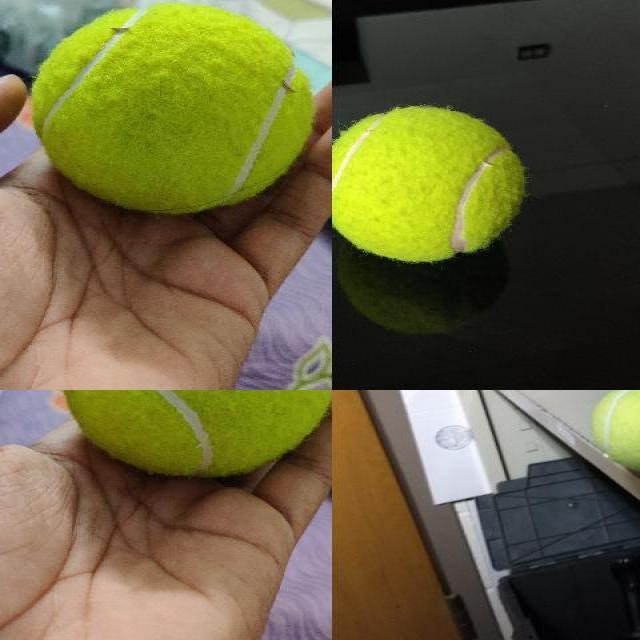tennis-ball: (27, 1, 317, 215), (332, 103, 526, 263), (57, 390, 331, 477), (589, 390, 639, 472)
